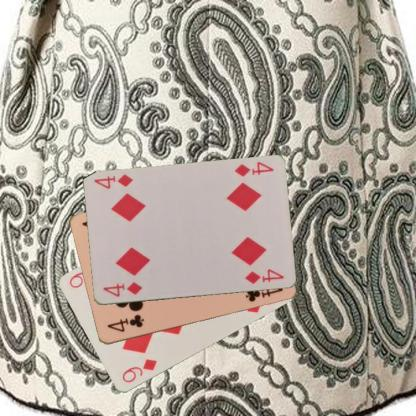4c: (104, 312, 146, 334)
4d: (100, 280, 143, 298), (232, 160, 274, 178)
9d: (119, 356, 158, 385)
